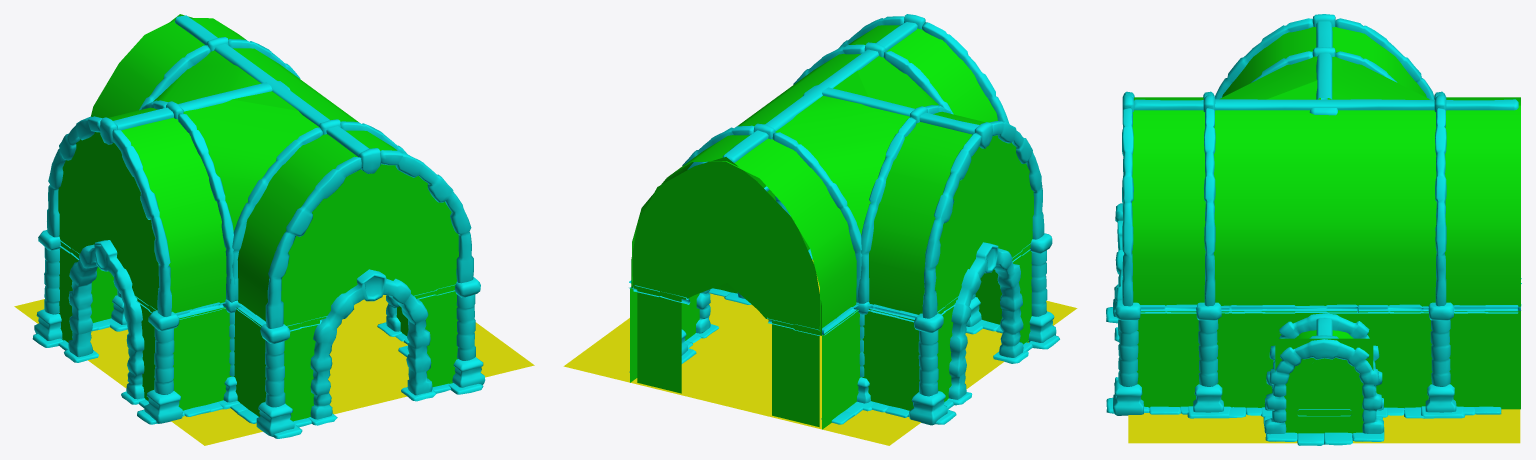
File: Hallway_TSection_2.fbx
3 views of the same model, side by side, from view 1: azimuth 30°, elevation 25°; view 2: azimuth 150°, elevation 25°; view 3: azimuth 270°, elevation 25° (orthographic). The views are drawn at different scales.
Visible parts, largest first — view 1: Room_T_2:TSection2FinishedRoomsWalls1, Room_T_2:TSection2FinishedRoomsFrame, Room_T_2:Floor1TSection2FinishedRooms; view 2: Room_T_2:TSection2FinishedRoomsWalls1, Room_T_2:TSection2FinishedRoomsFrame, Room_T_2:Floor1TSection2FinishedRooms; view 3: Room_T_2:TSection2FinishedRoomsWalls1, Room_T_2:TSection2FinishedRoomsFrame, Room_T_2:Floor1TSection2FinishedRooms.
Part boxes in pixels (box(x1,y1,x2,y2)): Room_T_2:TSection2FinishedRoomsWalls1: box(58, 14, 458, 421); Room_T_2:TSection2FinishedRoomsFrame: box(32, 15, 485, 438); Room_T_2:Floor1TSection2FinishedRooms: box(14, 295, 534, 445); Room_T_2:TSection2FinishedRoomsWalls1: box(630, 25, 1033, 429); Room_T_2:TSection2FinishedRoomsFrame: box(629, 14, 1059, 425); Room_T_2:Floor1TSection2FinishedRooms: box(563, 259, 1077, 445); Room_T_2:TSection2FinishedRoomsWalls1: box(1132, 26, 1520, 433); Room_T_2:TSection2FinishedRoomsFrame: box(1106, 14, 1521, 445); Room_T_2:Floor1TSection2FinishedRooms: box(1128, 409, 1520, 443).
Bounding box in the file's own units: 1276 × 897 × 1274.
